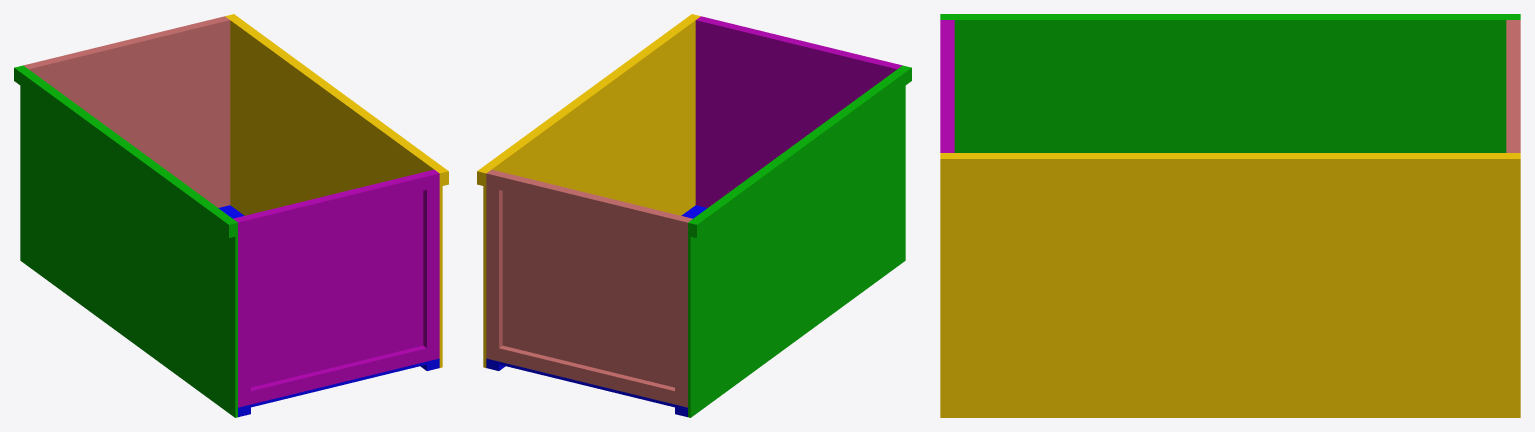
File: result?data=false.glb
The picture shows the model from 3 angles, left to right: view 1: azimuth 30°, elevation 25°; view 2: azimuth 150°, elevation 25°; view 3: azimuth 270°, elevation 25°; orthographic projection. The views are drawn at different scales.
Visible parts, largest first — view 1: 7ccf81e3-e722-4b90-8612-5865c69276d9__Box_6, 4f03a901-5d49-4a3f-9dee-690c70e59dbd__Box_3, 9f61aec5-db8f-49f2-b8b6-c02a664db512__undefined, bf865008-6d9d-47ce-bd5c-7850b4e4558e__undefined, 290cf020-f5dc-4731-b7f3-162b27aafd6f__Box_7, 4b1466be-830b-479d-b5e6-63e3d63cef1c__undefined, b18cee52-5c56-4d07-9f4c-444b3892a512__undefined, de164e0b-b387-4c2c-af05-67855fea7d48__Box_5, 494ae221-4d85-40a8-97e5-5e650b03b40e__Box_4, 266b846c-7bea-4e71-8796-75a91e3ef815__undefined, c8cdc26c-0b5c-4b06-ade3-fc1491fe3384__Box, f163a082-94c3-41d3-8fd5-32a6b51296bf__undefined; view 2: 7ccf81e3-e722-4b90-8612-5865c69276d9__Box_6, bf865008-6d9d-47ce-bd5c-7850b4e4558e__undefined, 9f61aec5-db8f-49f2-b8b6-c02a664db512__undefined, 4f03a901-5d49-4a3f-9dee-690c70e59dbd__Box_3, 290cf020-f5dc-4731-b7f3-162b27aafd6f__Box_7, f163a082-94c3-41d3-8fd5-32a6b51296bf__undefined, d671699f-b8e9-41e7-98d9-d87f7d84f343__undefined, 08f43e25-9701-4bc7-9e02-718de20ace65__undefined, 552cd687-9c0a-462a-bda6-656975fbb9e4__undefined, 266b846c-7bea-4e71-8796-75a91e3ef815__undefined, c8cdc26c-0b5c-4b06-ade3-fc1491fe3384__Box, 4b1466be-830b-479d-b5e6-63e3d63cef1c__undefined; view 3: 9f61aec5-db8f-49f2-b8b6-c02a664db512__undefined, 7ccf81e3-e722-4b90-8612-5865c69276d9__Box_6, 266b846c-7bea-4e71-8796-75a91e3ef815__undefined, 290cf020-f5dc-4731-b7f3-162b27aafd6f__Box_7, 4b1466be-830b-479d-b5e6-63e3d63cef1c__undefined, f163a082-94c3-41d3-8fd5-32a6b51296bf__undefined, 4f03a901-5d49-4a3f-9dee-690c70e59dbd__Box_3, bf865008-6d9d-47ce-bd5c-7850b4e4558e__undefined.
Part boxes in pixels (left/top/right/bottom): 7ccf81e3-e722-4b90-8612-5865c69276d9__Box_6: left=20, top=65, right=237, bottom=417; 4f03a901-5d49-4a3f-9dee-690c70e59dbd__Box_3: left=233, top=169, right=435, bottom=387; 9f61aec5-db8f-49f2-b8b6-c02a664db512__undefined: left=225, top=15, right=442, bottom=367; bf865008-6d9d-47ce-bd5c-7850b4e4558e__undefined: left=27, top=19, right=230, bottom=207; 290cf020-f5dc-4731-b7f3-162b27aafd6f__Box_7: left=14, top=66, right=235, bottom=237; 4b1466be-830b-479d-b5e6-63e3d63cef1c__undefined: left=247, top=174, right=426, bottom=232; b18cee52-5c56-4d07-9f4c-444b3892a512__undefined: left=423, top=171, right=439, bottom=361; de164e0b-b387-4c2c-af05-67855fea7d48__Box_5: left=251, top=345, right=426, bottom=404; 494ae221-4d85-40a8-97e5-5e650b03b40e__Box_4: left=235, top=217, right=250, bottom=407; 266b846c-7bea-4e71-8796-75a91e3ef815__undefined: left=228, top=14, right=448, bottom=185; c8cdc26c-0b5c-4b06-ade3-fc1491fe3384__Box: left=218, top=205, right=439, bottom=410; f163a082-94c3-41d3-8fd5-32a6b51296bf__undefined: left=36, top=19, right=215, bottom=64; 7ccf81e3-e722-4b90-8612-5865c69276d9__Box_6: left=688, top=65, right=905, bottom=417; bf865008-6d9d-47ce-bd5c-7850b4e4558e__undefined: left=490, top=169, right=692, bottom=387; 9f61aec5-db8f-49f2-b8b6-c02a664db512__undefined: left=483, top=15, right=700, bottom=367; 4f03a901-5d49-4a3f-9dee-690c70e59dbd__Box_3: left=695, top=19, right=898, bottom=207; 290cf020-f5dc-4731-b7f3-162b27aafd6f__Box_7: left=690, top=66, right=911, bottom=237; f163a082-94c3-41d3-8fd5-32a6b51296bf__undefined: left=499, top=174, right=678, bottom=232; d671699f-b8e9-41e7-98d9-d87f7d84f343__undefined: left=486, top=171, right=502, bottom=361; 08f43e25-9701-4bc7-9e02-718de20ace65__undefined: left=499, top=345, right=674, bottom=404; 552cd687-9c0a-462a-bda6-656975fbb9e4__undefined: left=675, top=217, right=690, bottom=407; 266b846c-7bea-4e71-8796-75a91e3ef815__undefined: left=477, top=14, right=697, bottom=185; c8cdc26c-0b5c-4b06-ade3-fc1491fe3384__Box: left=486, top=205, right=707, bottom=410; 4b1466be-830b-479d-b5e6-63e3d63cef1c__undefined: left=710, top=19, right=889, bottom=64; 9f61aec5-db8f-49f2-b8b6-c02a664db512__undefined: left=940, top=153, right=1520, bottom=417; 7ccf81e3-e722-4b90-8612-5865c69276d9__Box_6: left=940, top=18, right=1520, bottom=152; 266b846c-7bea-4e71-8796-75a91e3ef815__undefined: left=940, top=155, right=1520, bottom=176; 290cf020-f5dc-4731-b7f3-162b27aafd6f__Box_7: left=940, top=14, right=1520, bottom=18; 4b1466be-830b-479d-b5e6-63e3d63cef1c__undefined: left=940, top=28, right=949, bottom=144; f163a082-94c3-41d3-8fd5-32a6b51296bf__undefined: left=1511, top=28, right=1520, bottom=144; 4f03a901-5d49-4a3f-9dee-690c70e59dbd__Box_3: left=950, top=20, right=954, bottom=152; bf865008-6d9d-47ce-bd5c-7850b4e4558e__undefined: left=1506, top=20, right=1510, bottom=152.
Size of the model in its own units: 622 by 526 by 1052.
